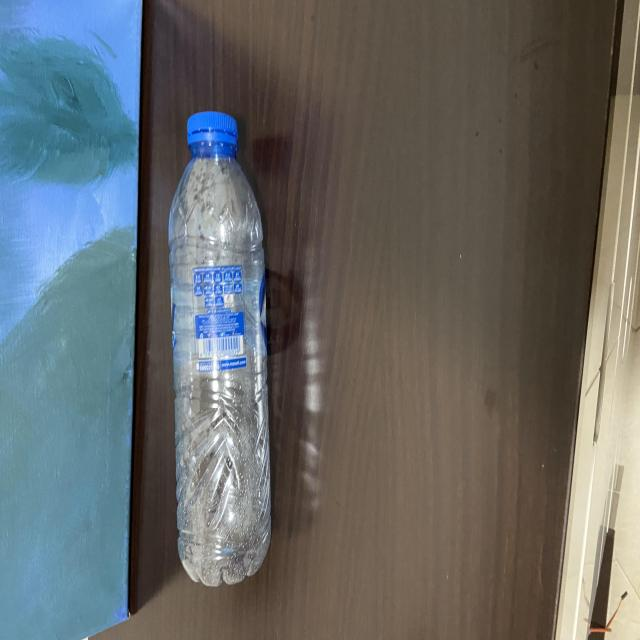bottle: (160, 91, 278, 584)
